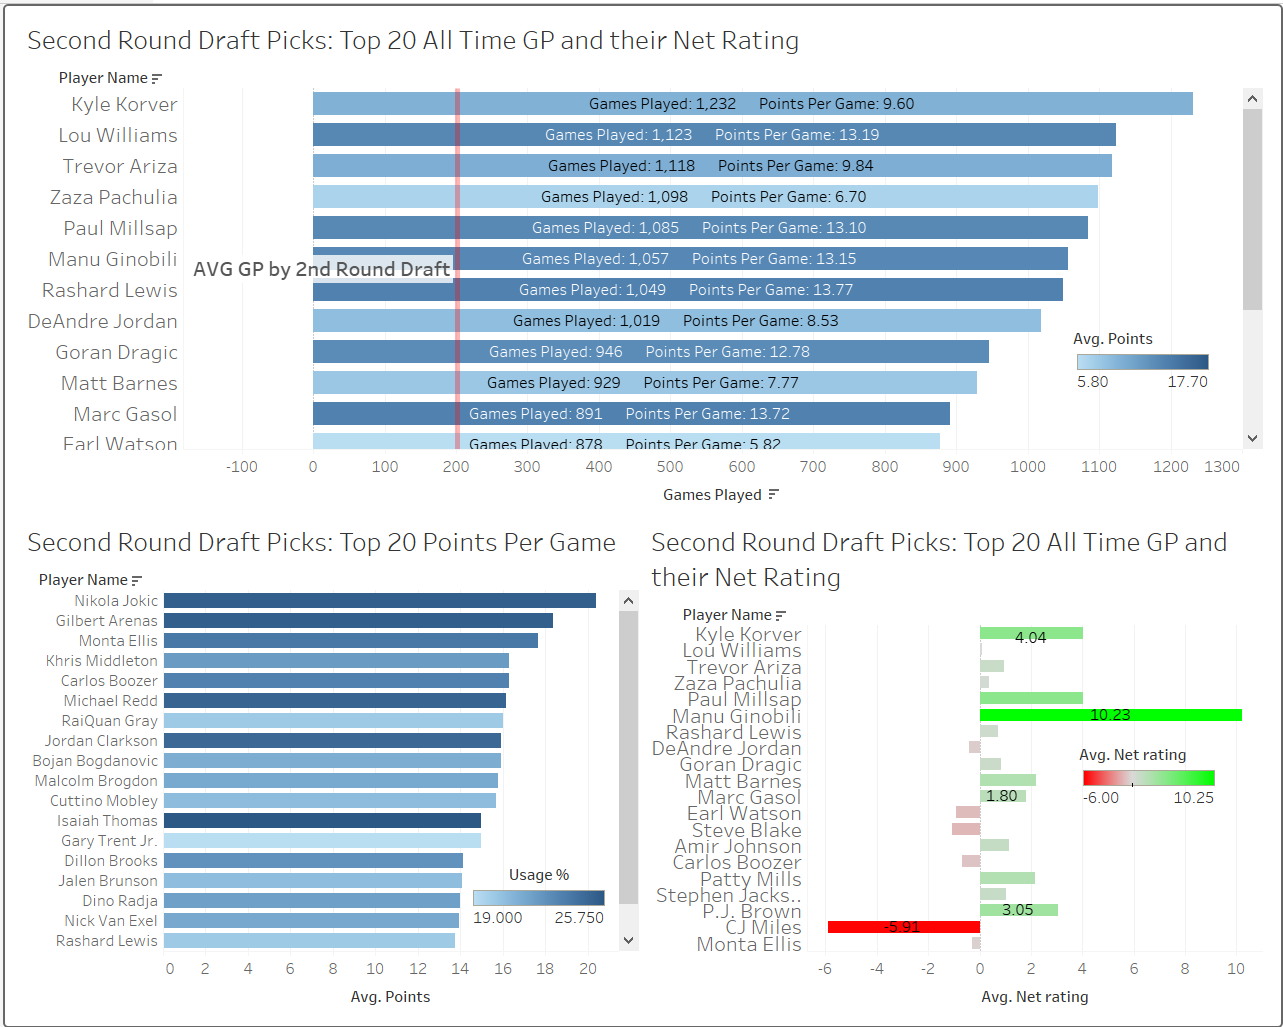

Layout of this report page (visuals, bound fields, positions):
{"tool":"tableau","page":{"name":"Second Round Draft","canvas":[1000,1000],"units":"permille","ordinal":0},"visuals":[{"type":"worksheet","title":"2nd-GP+PPG+Net","mark":"Automatic","rows":["player_name"],"cols":["Games Played"],"box":[12.3,9.3,975.4,490.7]},{"type":"legend","title":"2nd-GP+PPG+Net","param":"[federated.0po7upe14diywv191z8wu08yxb6l].[avg:Points:qk]","box":[835.9,316.4,109.4,67.4]},{"type":"worksheet","title":"2nd-R PPG","mark":"Automatic","rows":["player_name"],"cols":["Points"],"box":[12.3,500,487.7,490.7]},{"type":"worksheet","title":"2nd-R GP","mark":"Automatic","rows":["player_name"],"cols":["Net rating"],"box":[500,500,487.7,490.7]},{"type":"legend","title":"2nd-R GP","param":"[federated.0po7upe14diywv191z8wu08yxb6l].[avg:Net rating:qk]","box":[840.6,722.7,109.4,63.5]},{"type":"legend","title":"2nd-R PPG","param":"[federated.0po7upe14diywv191z8wu08yxb6l].[avg:Calculation_7388999622265892878:qk","box":[364.1,839.8,109.4,65.4]}]}

Visuals, with their boxes on the dashboard's canvas, which has no fixed pixel size, in thousandths of its width and height (x1, y1, x2, y2). These are canvas units, not pixel positions in the 1283x1027 screenshot, which may show the page scaled, cropped or inside an application window:
"2nd-GP+PPG+Net" worksheet: rect(12, 9, 988, 500)
"2nd-GP+PPG+Net" legend: rect(836, 316, 945, 384)
"2nd-R PPG" worksheet: rect(12, 500, 500, 991)
"2nd-R GP" worksheet: rect(500, 500, 988, 991)
"2nd-R GP" legend: rect(841, 723, 950, 786)
"2nd-R PPG" legend: rect(364, 840, 474, 905)
